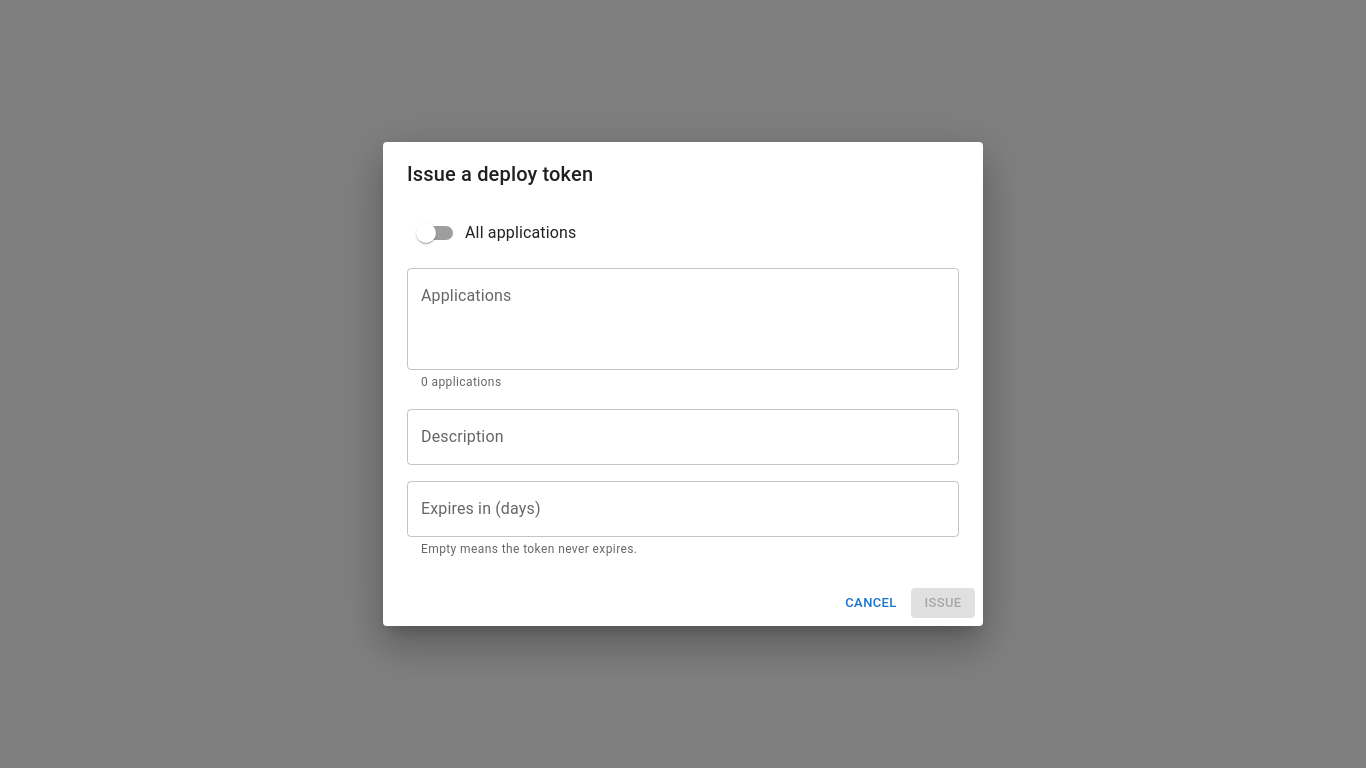
Test case: IssueTokenDialog › blocks submission on an expiry of 4000
Step 1. Click the switch labelled "All applications" → [496, 233], box [416,223,576,243]
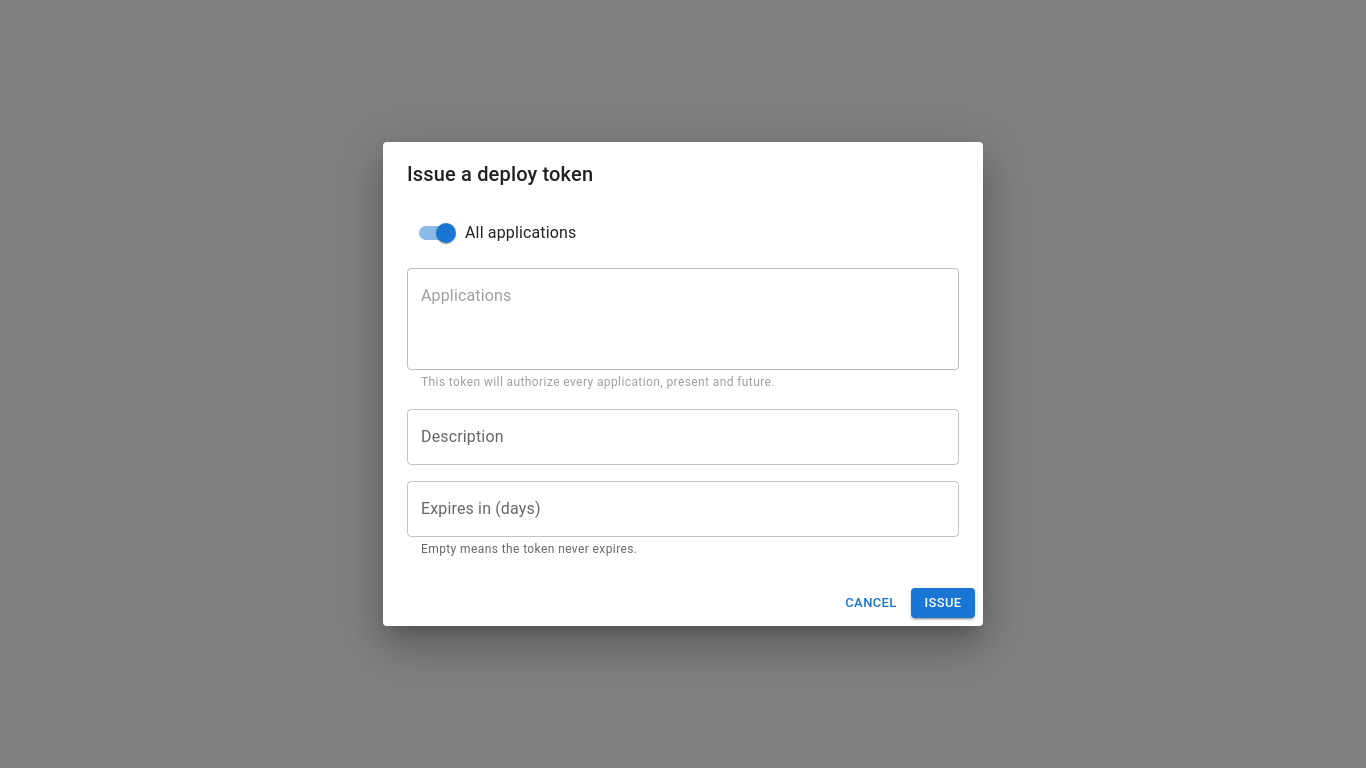
Step 2. Type "4000" into the field labelled "Expires in (days)" → [683, 509], box [407,481,959,537]
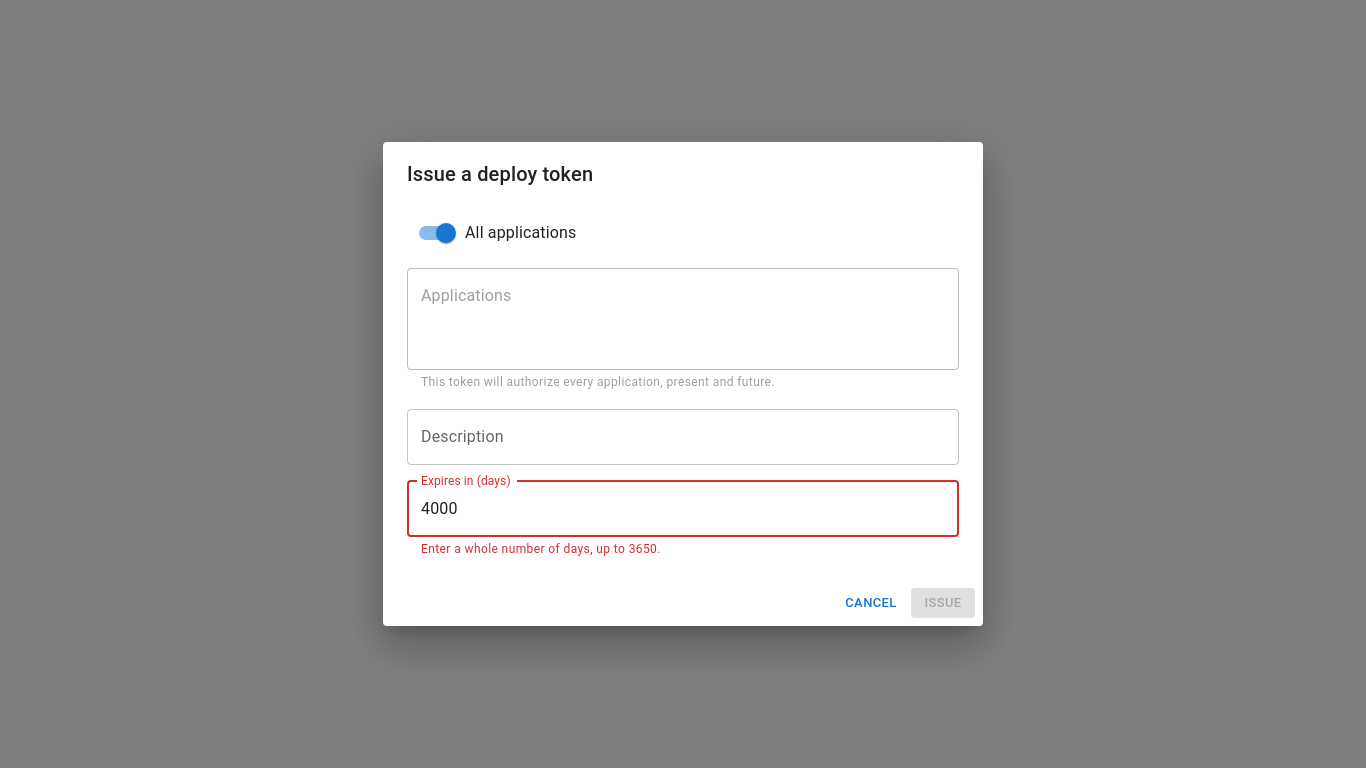
Expected: the button "Issue" is disabled, [911,588,975,618]
